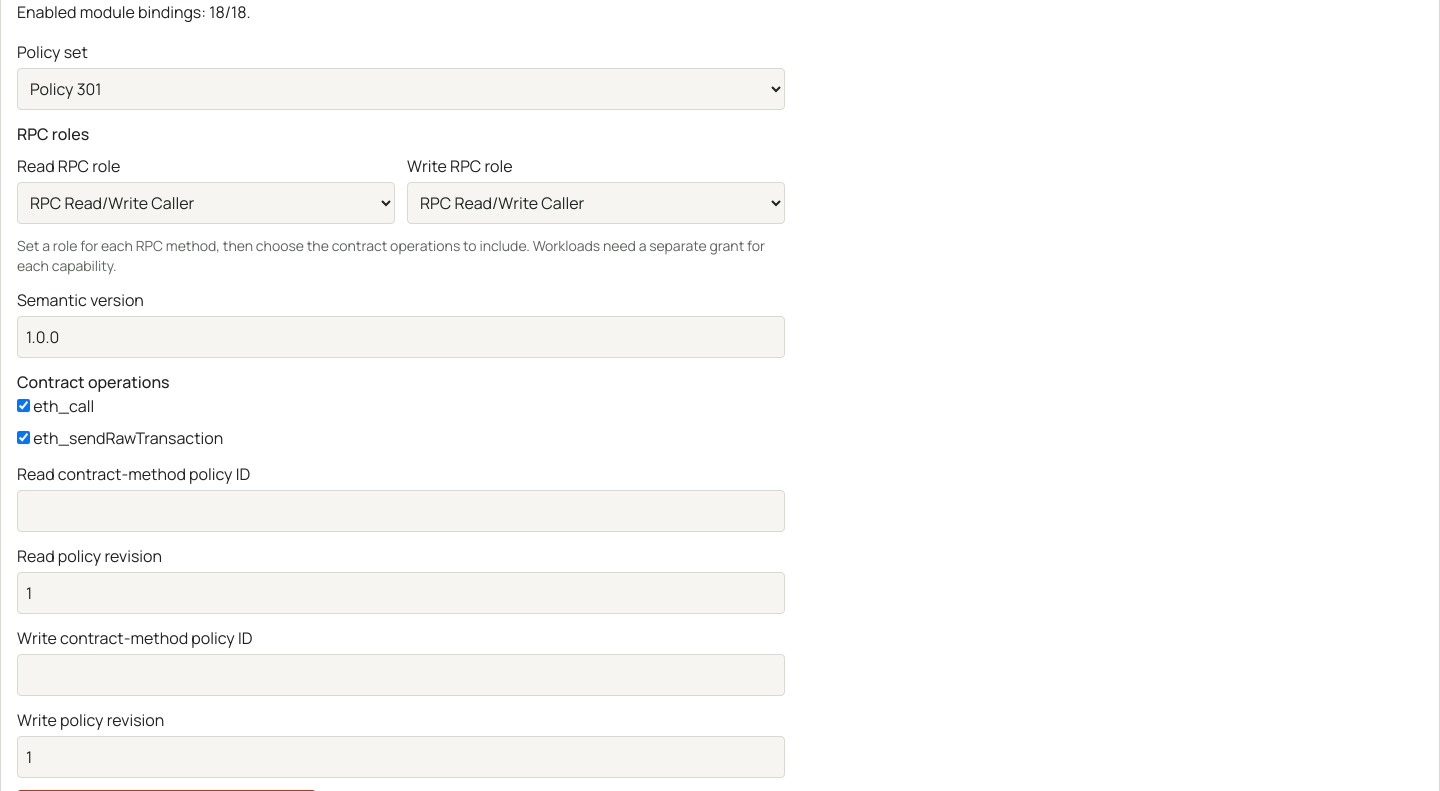
Test case: creates a eth_sendRawTransaction policy without fields for the unselected method
This screenshot has width=1440, height=791.
(page scrolled)
Click the checkbox labelled "eth_call" at point(24, 406), box 17,399 -> 30,412
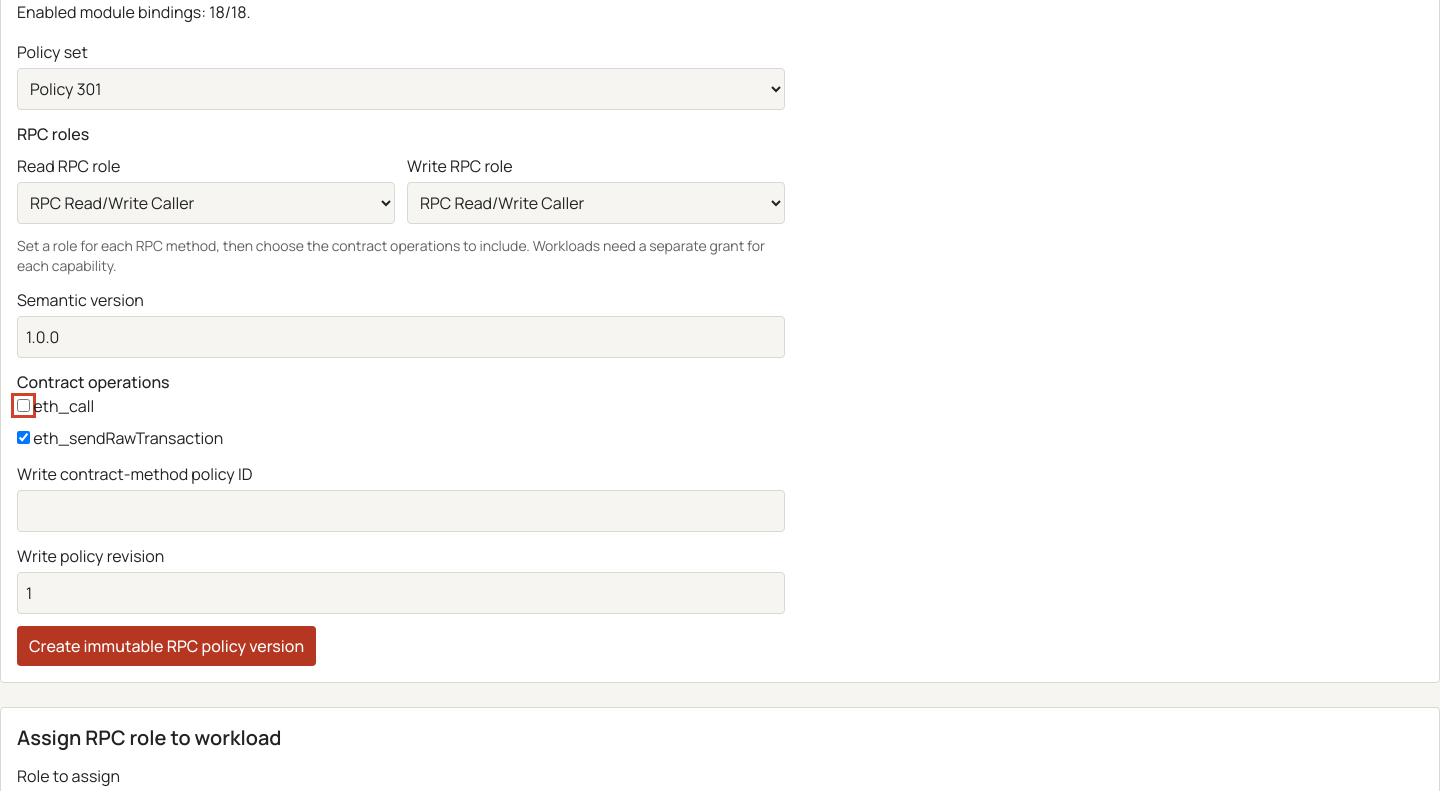
Check: the form named "Read contract-method policy ID" is disabled, box 17,40 -> 785,666
Check: the label labelled "Read contract-method policy ID" is gone
Type "018f0000-0000-7000-8000-000000000702" into the field labelled "Write contract-method policy ID" at point(401, 511), box 17,490 -> 785,532
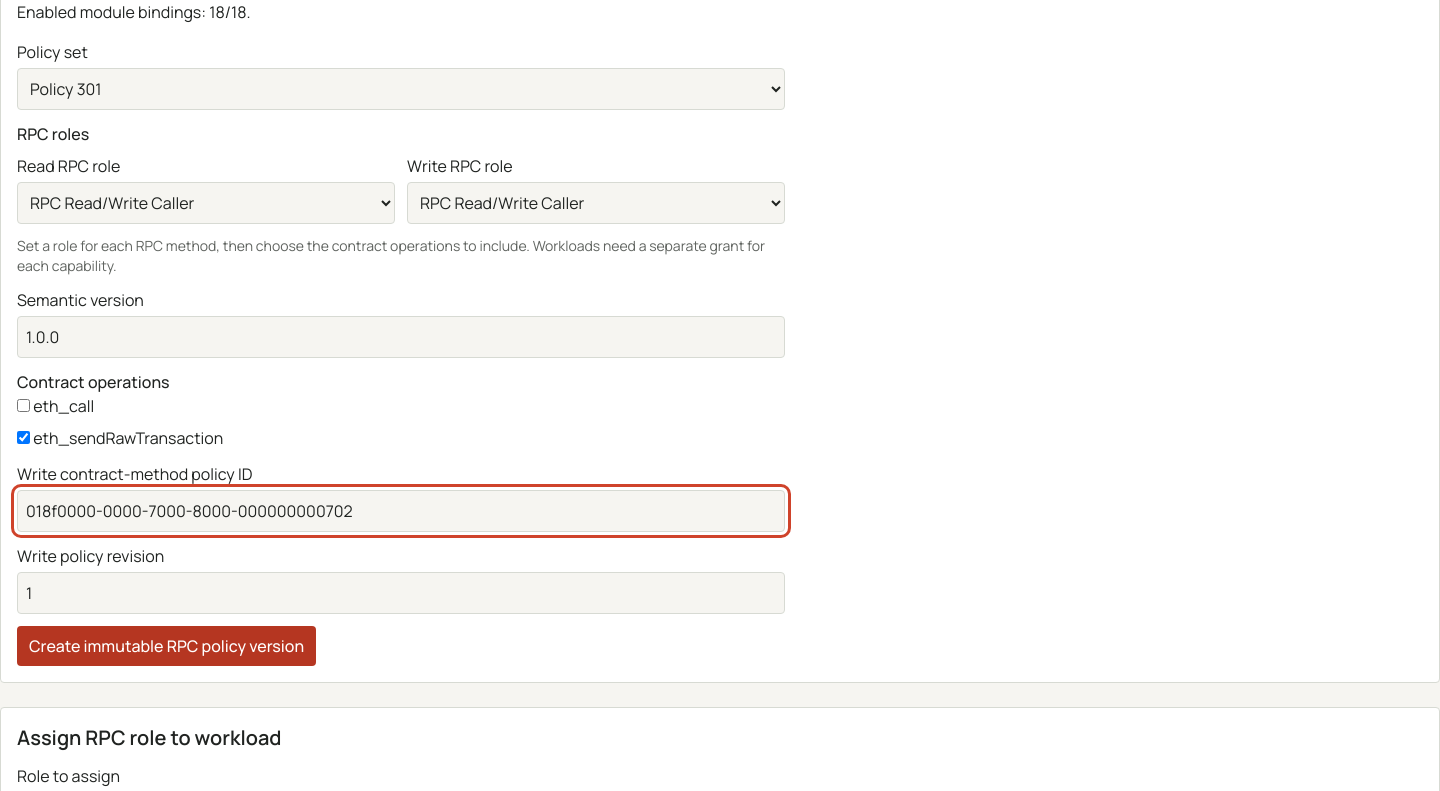
Click the button "Create immutable RPC policy version" at point(167, 646), box 17,626 -> 316,666
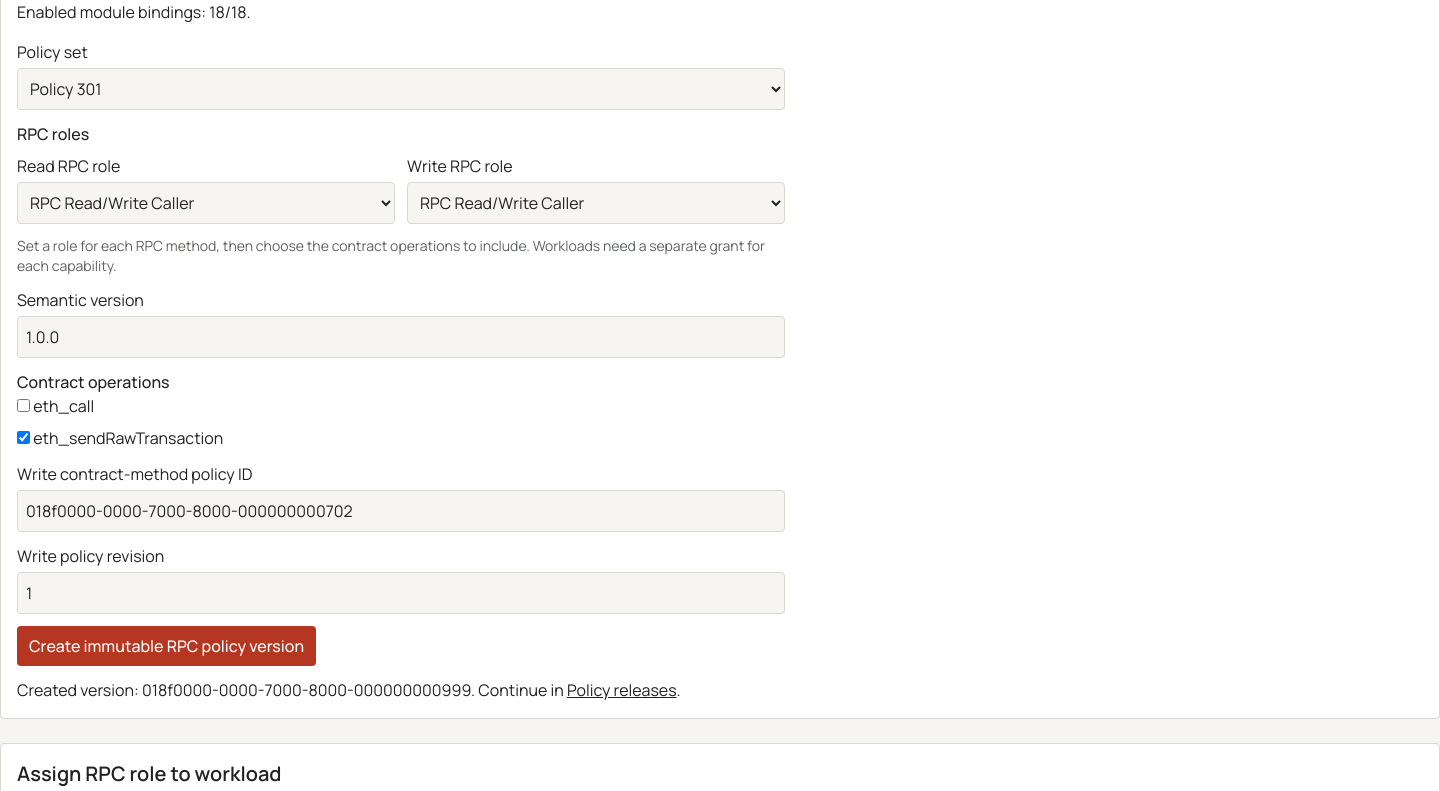
Check: the text "Created version:" is shown, box 17,679 -> 142,701
